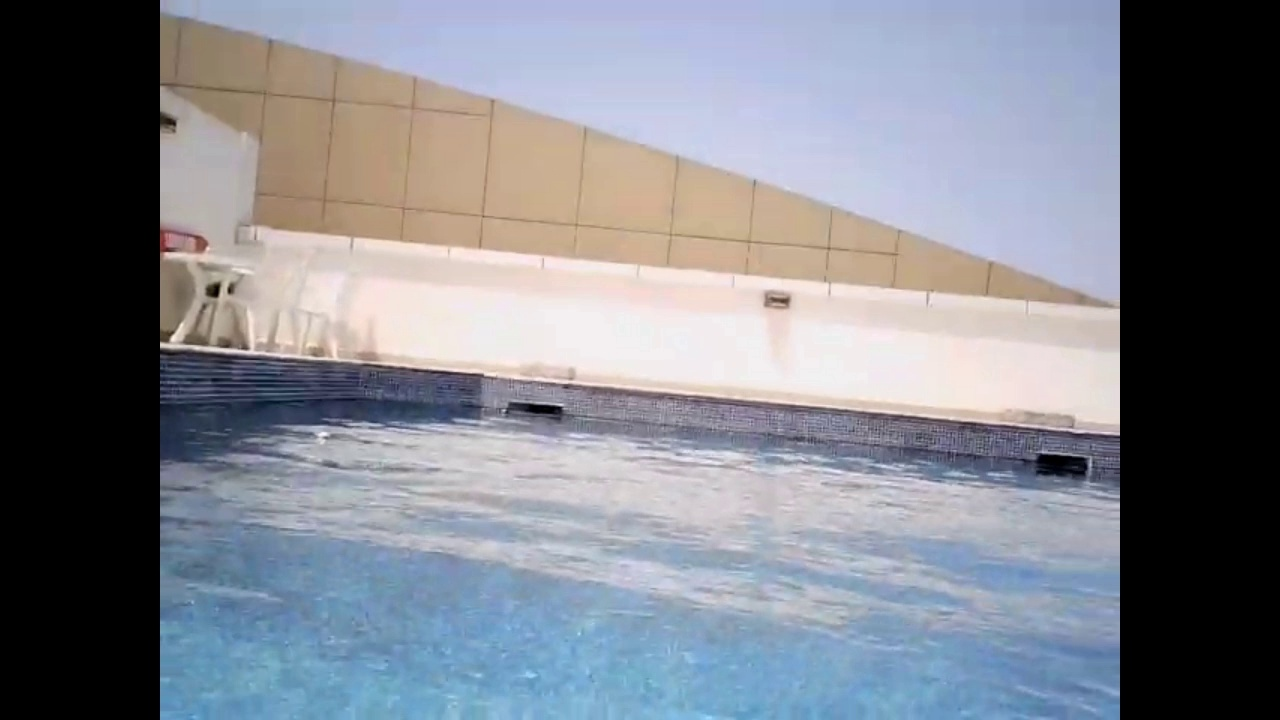debris: (313, 427, 332, 445)
